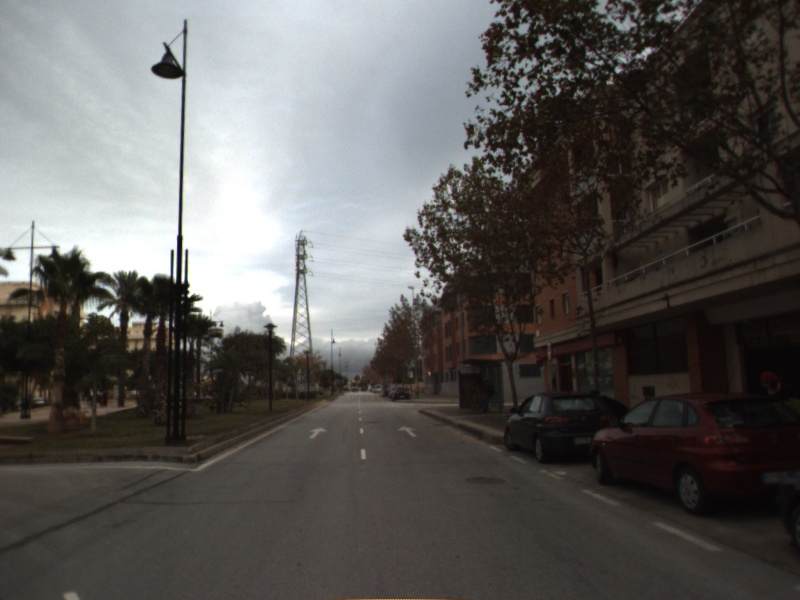STRAIGHT: (307, 425, 330, 441), (396, 424, 419, 439)
